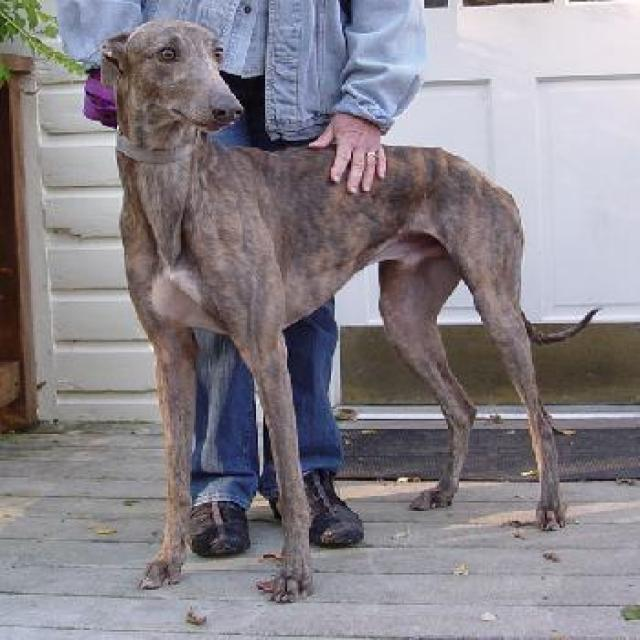Dogs: (97, 17, 600, 601)
